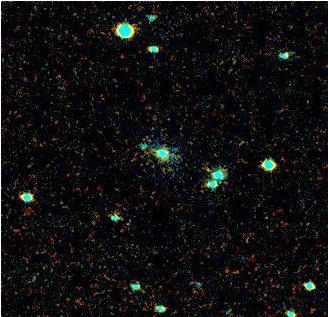star: (187, 154, 217, 184)
